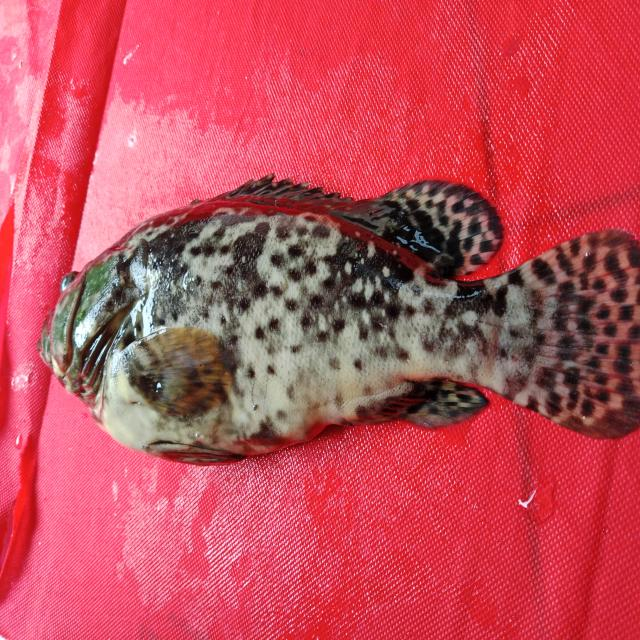ikan: (24, 164, 630, 479)
